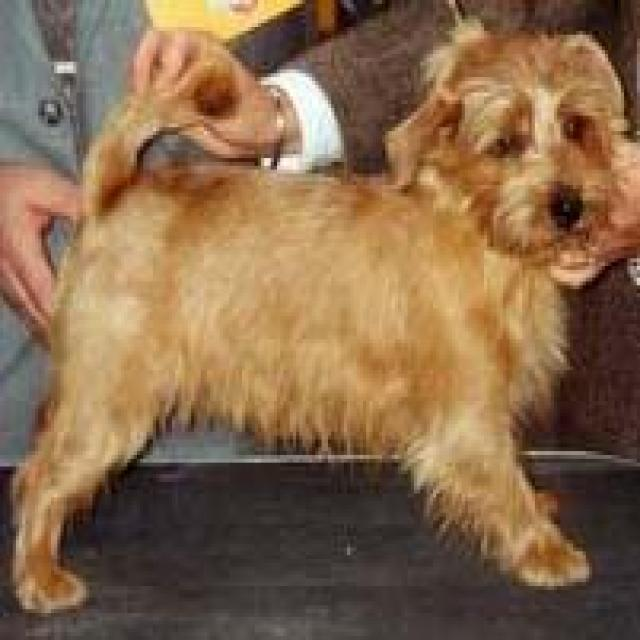dogs: (49, 45, 628, 588)
